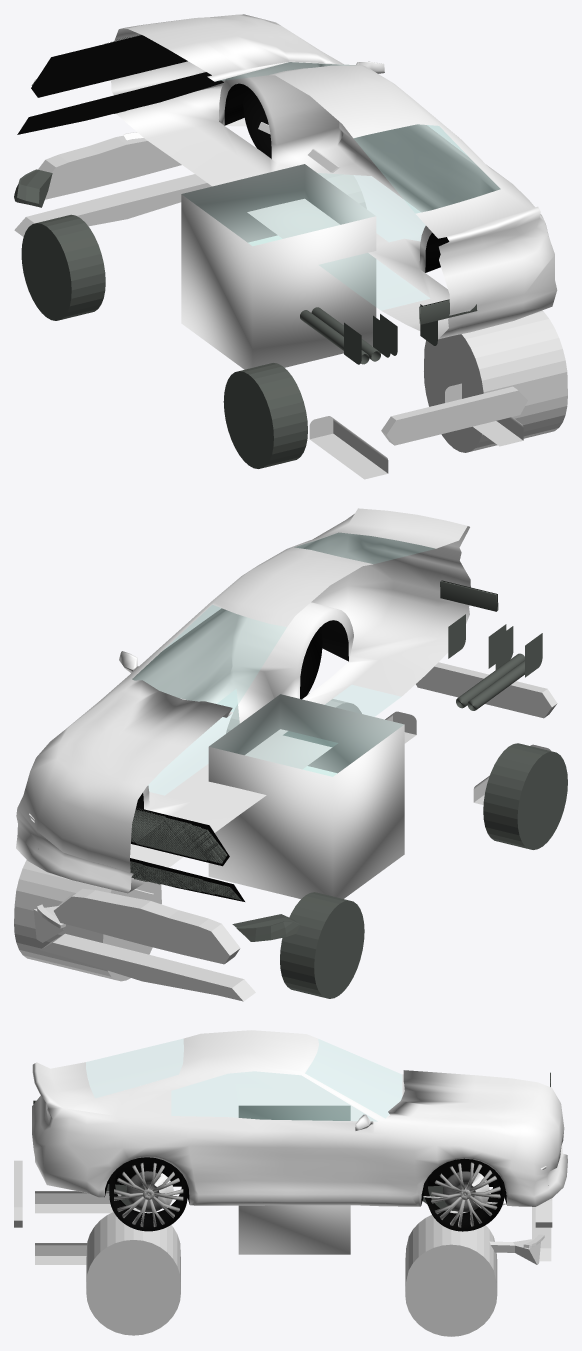
File: mustang.glb
3 renders of one model, top to bottom at view 1: azimuth 30°, elevation 25°; view 2: azimuth 150°, elevation 25°; view 3: azimuth 270°, elevation 25°, orthographic. The views are drawn at different scales.
Visible parts, largest first — view 1: Body, Wheels, Arches, Body.001, Front Bumper, Plane, Rear Number Plate slot, Exhaust Cut Out, Front Bottom Bumper, Plane.001, Rear Splitters, Exhaust (+5 smaller); view 2: Body, Wheels, Body.003, Front Bumper, Arches, Front Bottom Bumper, Rear Number Plate slot, Grill, Body.001, Rear Splitters, Exhaust, Grill Smaller (+7 smaller); view 3: Body, Arches, Body.002, Rubber/Brakes, Body.003, Spokes, Body.001, Exhaust Cut Out, Brake Vents, Rear Number Plate slot, Front Bottom Bumper, Front Bumper (+1 smaller).
Boxes of the visible parts, box(x1,y1,x2,y2) form: Body: box(111, 14, 557, 369); Wheels: box(21, 214, 307, 468); Arches: box(317, 173, 567, 452); Body.001: box(354, 124, 499, 212); Front Bumper: box(38, 135, 181, 199); Plane: box(31, 35, 187, 97); Rear Number Plate slot: box(381, 386, 527, 445); Exhaust Cut Out: box(309, 383, 523, 479); Front Bottom Bumper: box(14, 174, 211, 236); Plane.001: box(17, 72, 223, 134); Rear Splitters: box(344, 304, 437, 364); Exhaust: box(300, 307, 380, 364); Body: box(16, 508, 470, 898); Wheels: box(280, 743, 567, 998); Body.003: box(133, 605, 286, 711); Front Bumper: box(54, 888, 240, 964); Arches: box(14, 693, 361, 981); Front Bottom Bumper: box(40, 933, 255, 1001); Rear Number Plate slot: box(416, 662, 557, 718); Grill: box(131, 807, 227, 863); Body.001: box(295, 533, 434, 563); Rear Splitters: box(448, 614, 542, 677); Exhaust: box(456, 653, 524, 710); Grill Smaller: box(130, 861, 241, 900); Body: box(32, 1030, 567, 1254); Arches: box(86, 1208, 497, 1336); Body.002: box(171, 1071, 376, 1121); Rubber/Brakes: box(109, 1166, 504, 1231); Body.003: box(305, 1039, 401, 1117); Spokes: box(114, 1162, 500, 1227); Body.001: box(86, 1039, 183, 1097); Exhaust Cut Out: box(35, 1191, 121, 1264); Brake Vents: box(489, 1238, 540, 1264); Rear Number Plate slot: box(14, 1160, 22, 1227); Front Bottom Bumper: box(532, 1207, 551, 1261); Front Bumper: box(535, 1198, 552, 1227).
Bounding box in the file's own units: 4.79 × 4.89 × 9.94.
